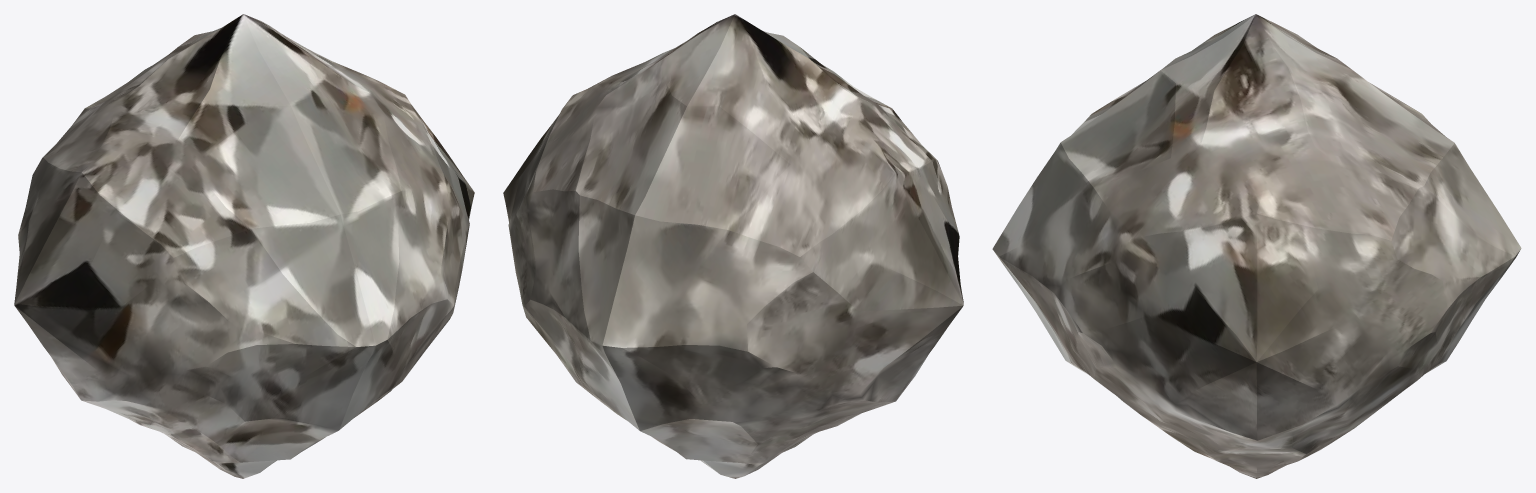
Rendered from treasureGem.glb.
The picture shows the model from 3 angles, left to right: view 1: azimuth 30°, elevation 25°; view 2: azimuth 150°, elevation 25°; view 3: azimuth 270°, elevation 25°; orthographic projection.
Visible parts, largest first — view 1: model; view 2: model; view 3: model.
Part boxes in pixels (x1,y1,x2,y2): model: [14, 14, 474, 478]; model: [503, 14, 963, 478]; model: [992, 14, 1521, 478].
Size of the model in its own units: 1.9 by 1.83 by 1.89.
Materials: 1 (1 with a texture image).
